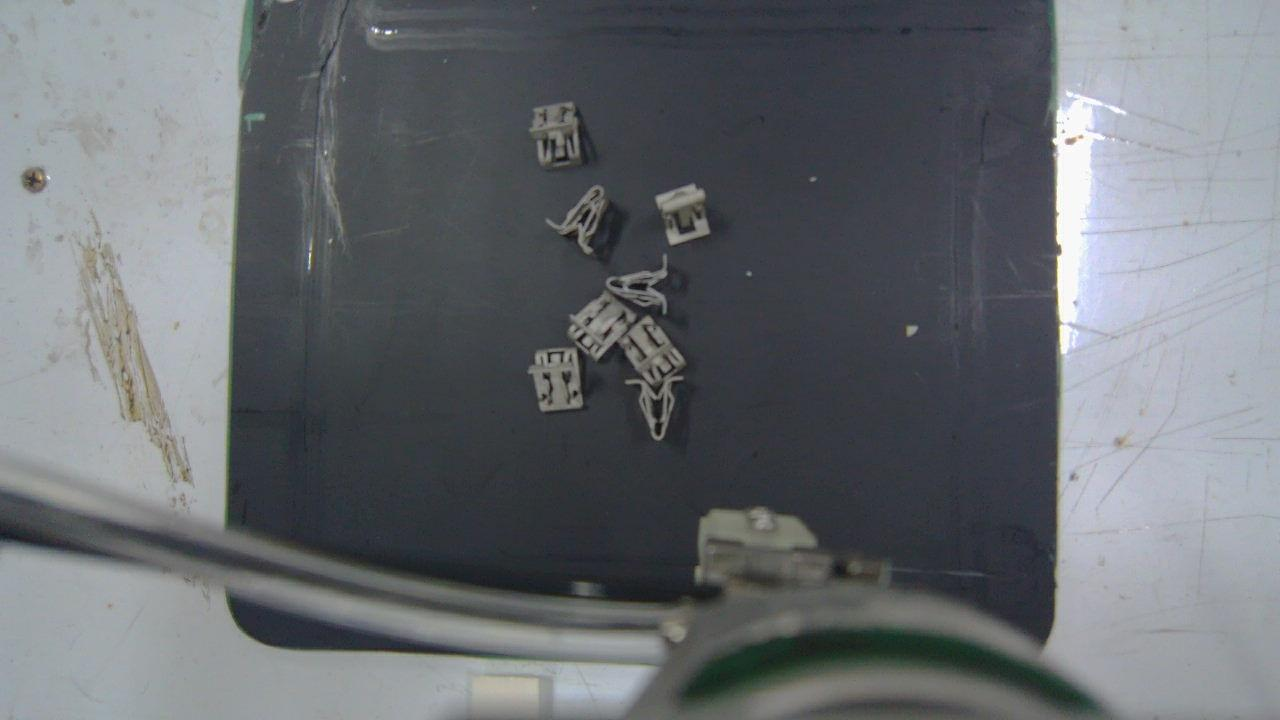ng: (618, 312, 686, 387), (567, 292, 635, 362), (545, 185, 608, 257), (527, 104, 582, 171), (654, 183, 710, 246), (629, 377, 683, 441), (608, 257, 667, 315), (532, 351, 585, 412)
